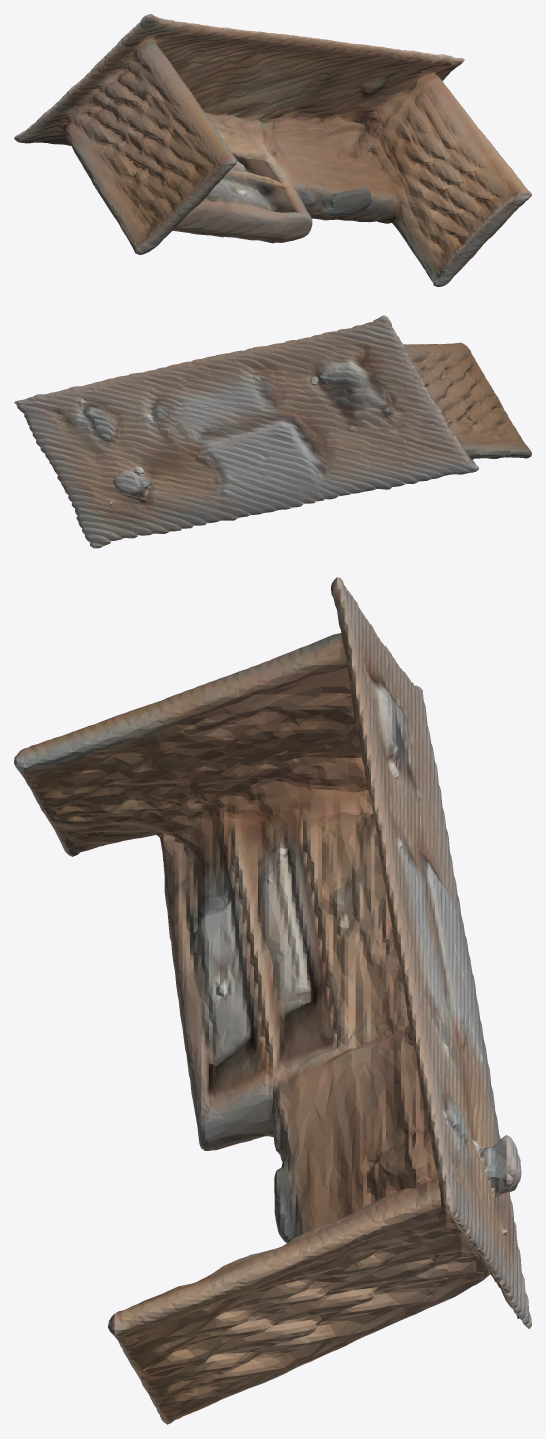
The model's file is scholarhub-study-table.glb.
3 renders of one model, top to bottom at view 1: azimuth 30°, elevation 25°; view 2: azimuth 150°, elevation 25°; view 3: azimuth 270°, elevation 25°, orthographic. The views are drawn at different scales.
Parts seen in each view (by area): view 1: orient; view 2: orient; view 3: orient.
Part boxes in pixels (x1,y1,x2,y2): orient: [14, 14, 531, 286]; orient: [14, 315, 531, 548]; orient: [14, 577, 531, 1424].
Size of the model in its own units: 1.16 by 0.73 by 0.57.
